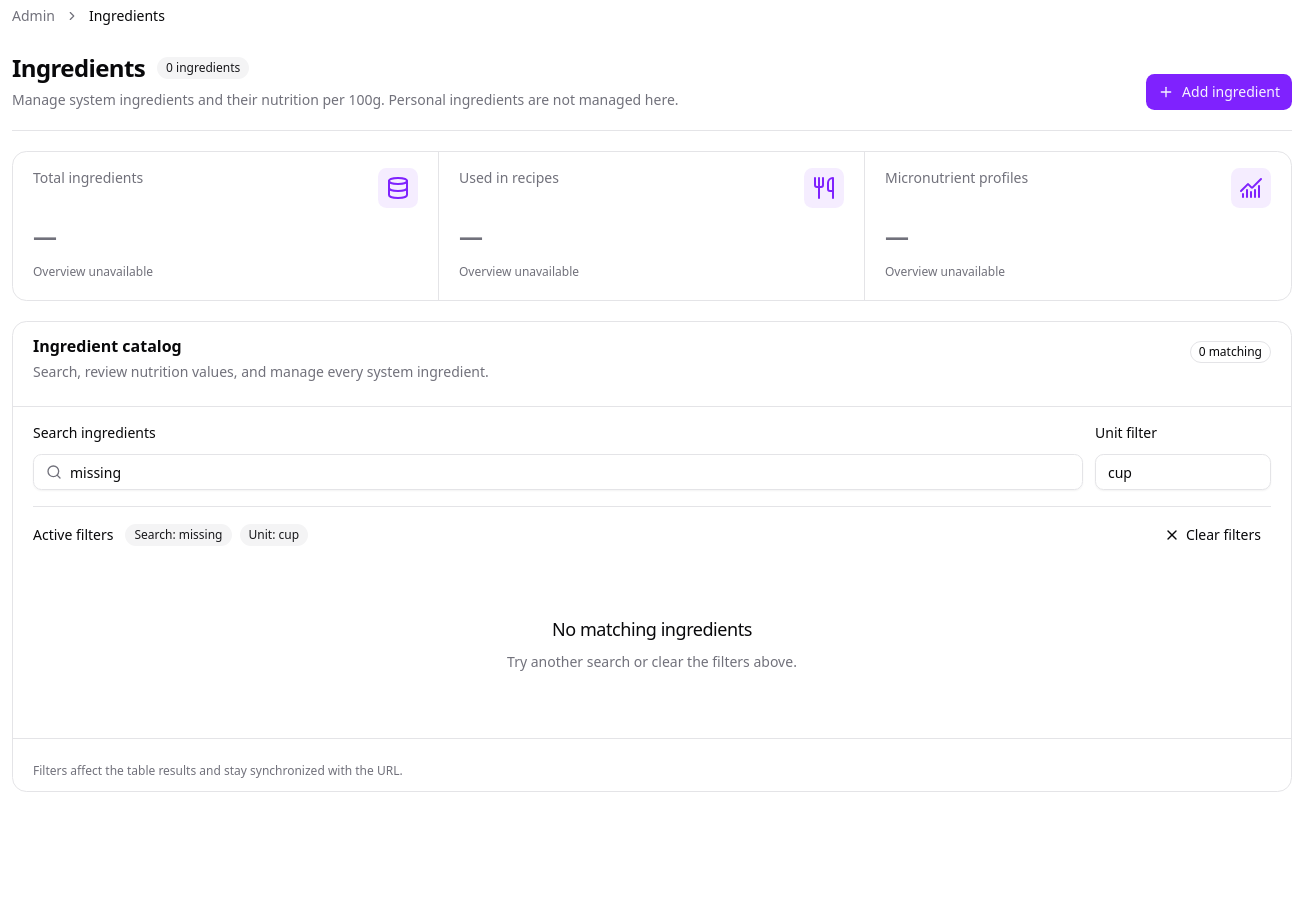
IngredientsPage › distinguishes empty and no-results and clears filters
expect the text "No matching ingredients" is shown: met, box [552, 615, 752, 643]
Click the button "Clear filters" at (1212, 535), box [1154, 519, 1271, 551]
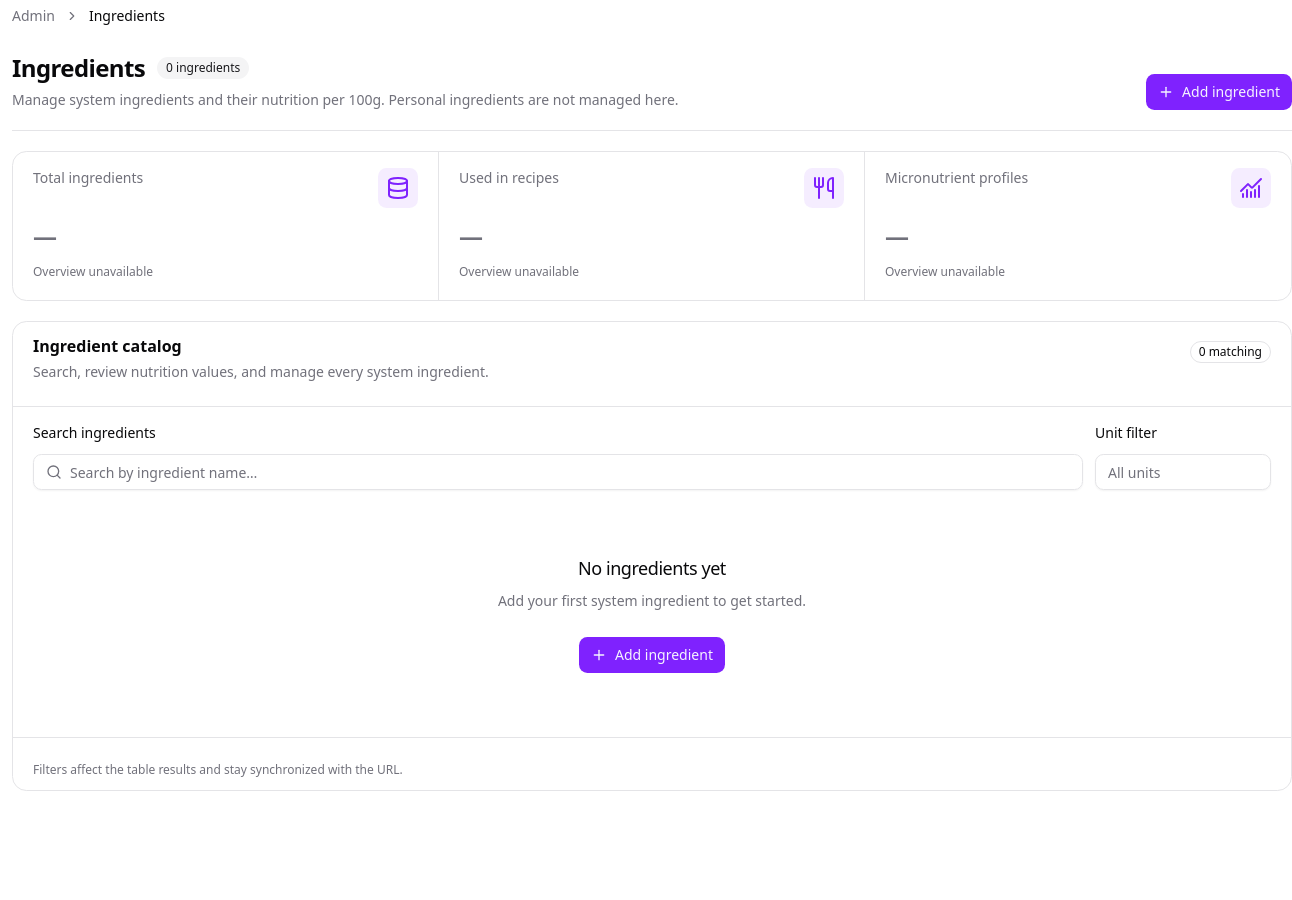
expect the text "No ingredients yet" is shown: met, box [578, 554, 726, 582]
